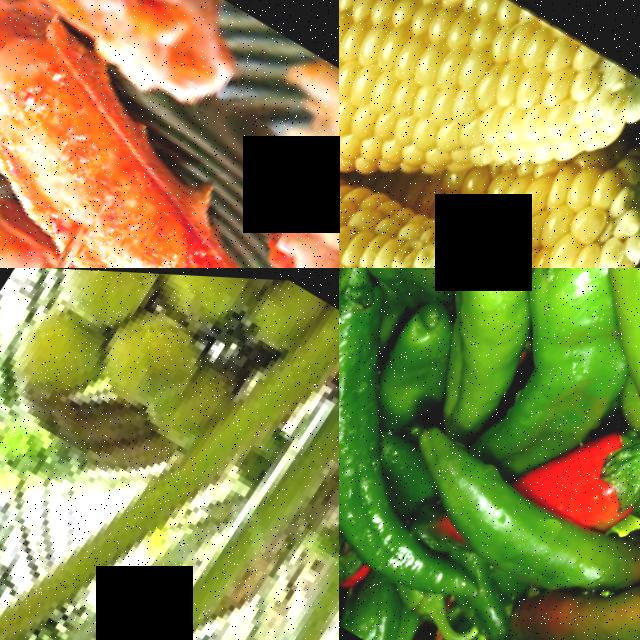chilli: (373, 409, 627, 603), (339, 424, 533, 618)
coconuts: (0, 268, 293, 478), (273, 333, 339, 640)
corn: (339, 0, 640, 268), (433, 94, 640, 268), (339, 47, 495, 268)
